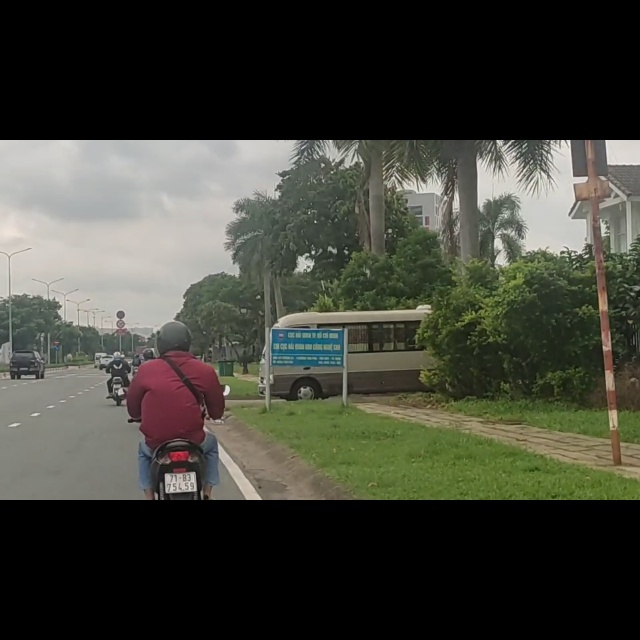bien_hieu_lenh: (116, 303, 125, 318), (117, 320, 125, 335), (53, 354, 60, 365), (53, 365, 60, 376)
